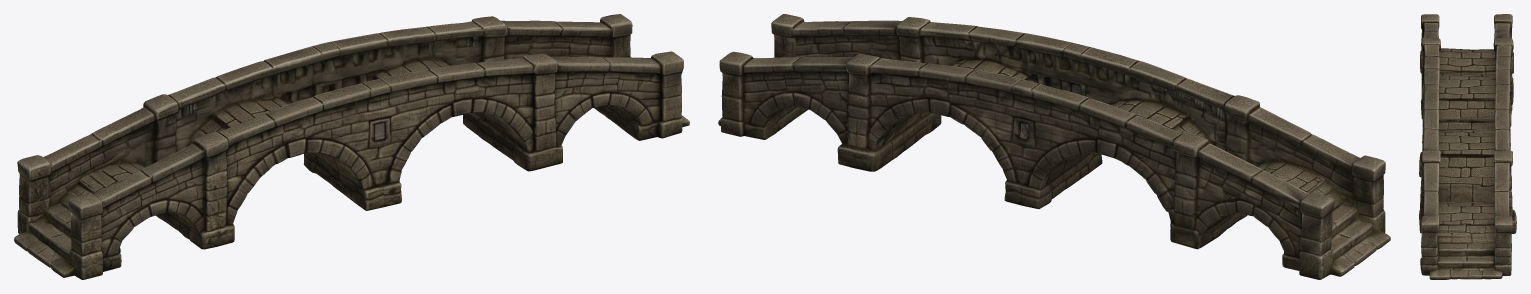
The model's file is lib_stone_bridge.mid.glb.
3 renders of one model, left to right at view 1: azimuth 30°, elevation 25°; view 2: azimuth 150°, elevation 25°; view 3: azimuth 270°, elevation 25°, orthographic. The views are drawn at different scales.
Visible parts, largest first — view 1: mesh_node; view 2: mesh_node; view 3: mesh_node.
Part boxes in pixels (x1,y1,x2,y2): mesh_node: (14,14,689,279); mesh_node: (718,14,1390,279); mesh_node: (1419,14,1516,279).
Bounding box in the file's own units: 1.9 × 0.3414 × 0.3595.
Materials: 1 (1 with a texture image).
